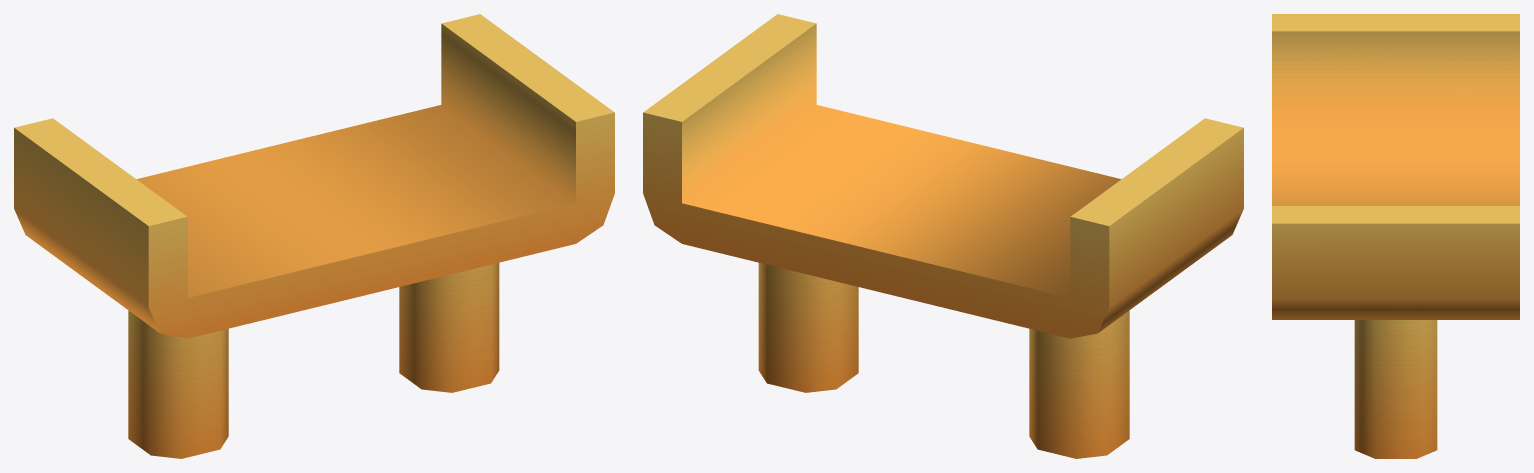
Rendered from support_color_two_top.glb.
3 renders of one model, left to right at view 1: azimuth 30°, elevation 25°; view 2: azimuth 150°, elevation 25°; view 3: azimuth 270°, elevation 25°, orthographic. The views are drawn at different scales.
Visible parts, largest first — view 1: support-color-two-top; view 2: support-color-two-top; view 3: support-color-two-top.
Part boxes in pixels (<box>): support-color-two-top: <box>14,14,614,458</box>; support-color-two-top: <box>643,14,1243,458</box>; support-color-two-top: <box>1272,14,1519,458</box>.
Size of the model in its own units: 1.2 by 0.7 by 0.6.
Materials: 1 (1 with a texture image).
